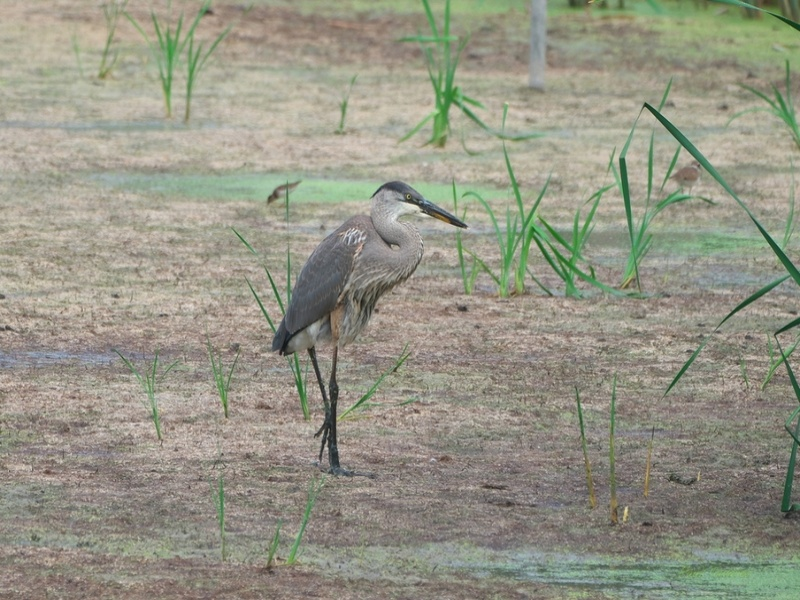heron: (270, 178, 469, 472)
